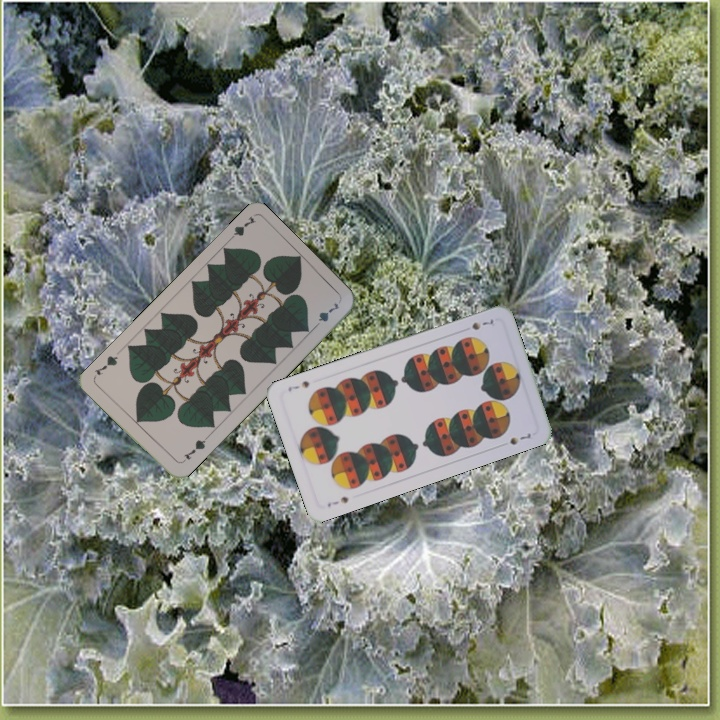G7: (223, 212, 258, 245), (180, 433, 209, 462)
S7: (468, 315, 496, 333), (323, 492, 351, 510)
